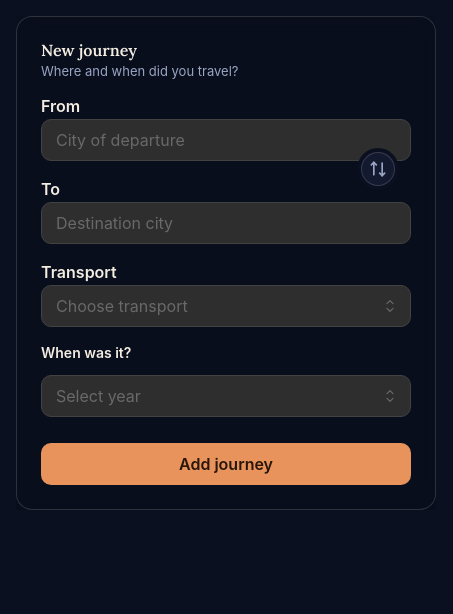
Scenario: AddJourneyPage — проверка формы до отправки › требует обязательные поля и не отправляет запрос при пустой форме
What coordinates should you click on to do the following:
click the button "Add journey"
I would click on:
 (226, 464)
Its box is [41, 443, 411, 485].
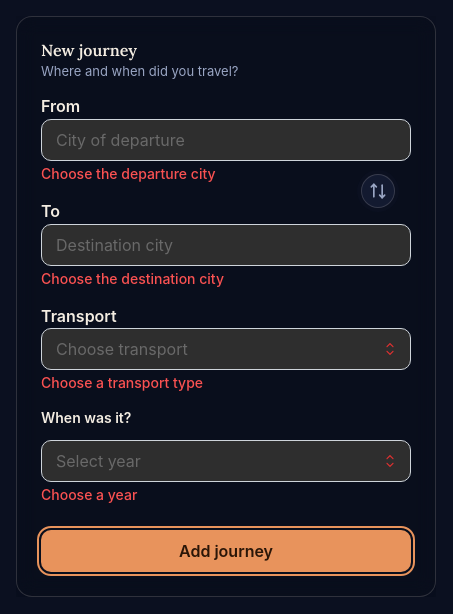
Expected: the text "Choose the departure city" is shown, [41, 165, 216, 182]
Expected: the text "Choose the destination city" is shown, [41, 270, 224, 287]
Expected: the text "Choose a transport type" is shown, [41, 374, 203, 391]
